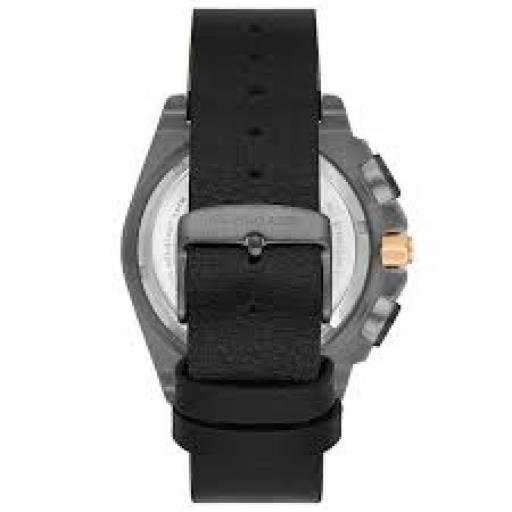KolSaati: (120, 5, 426, 512)
